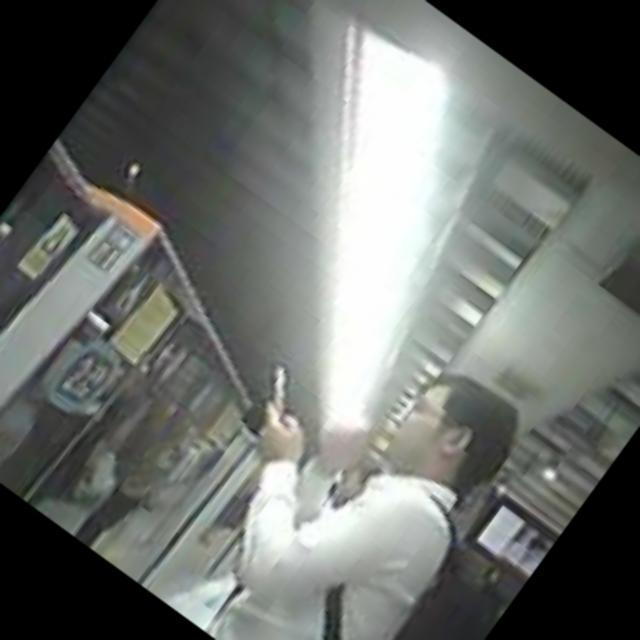person: (139, 288, 550, 640)
